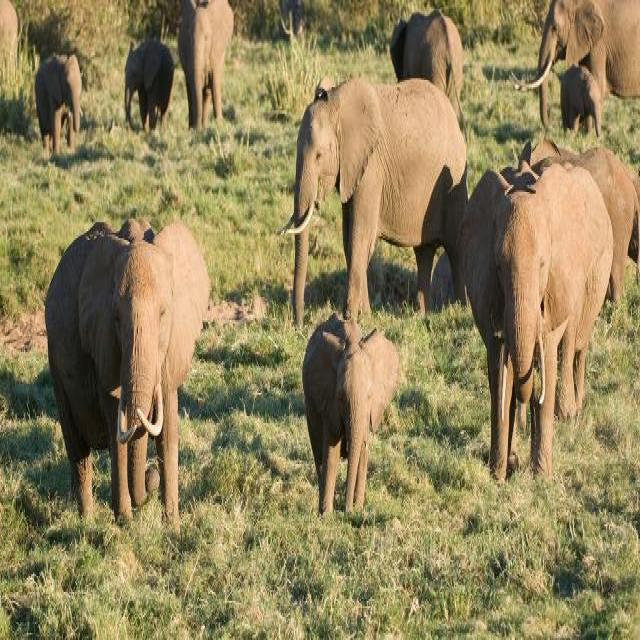Elephant: (46, 185, 224, 581), (473, 132, 640, 490), (282, 51, 466, 322), (304, 289, 395, 542), (530, 0, 640, 148), (113, 29, 177, 159), (176, 0, 247, 117), (28, 32, 88, 167), (409, 0, 470, 109), (551, 52, 614, 147)
